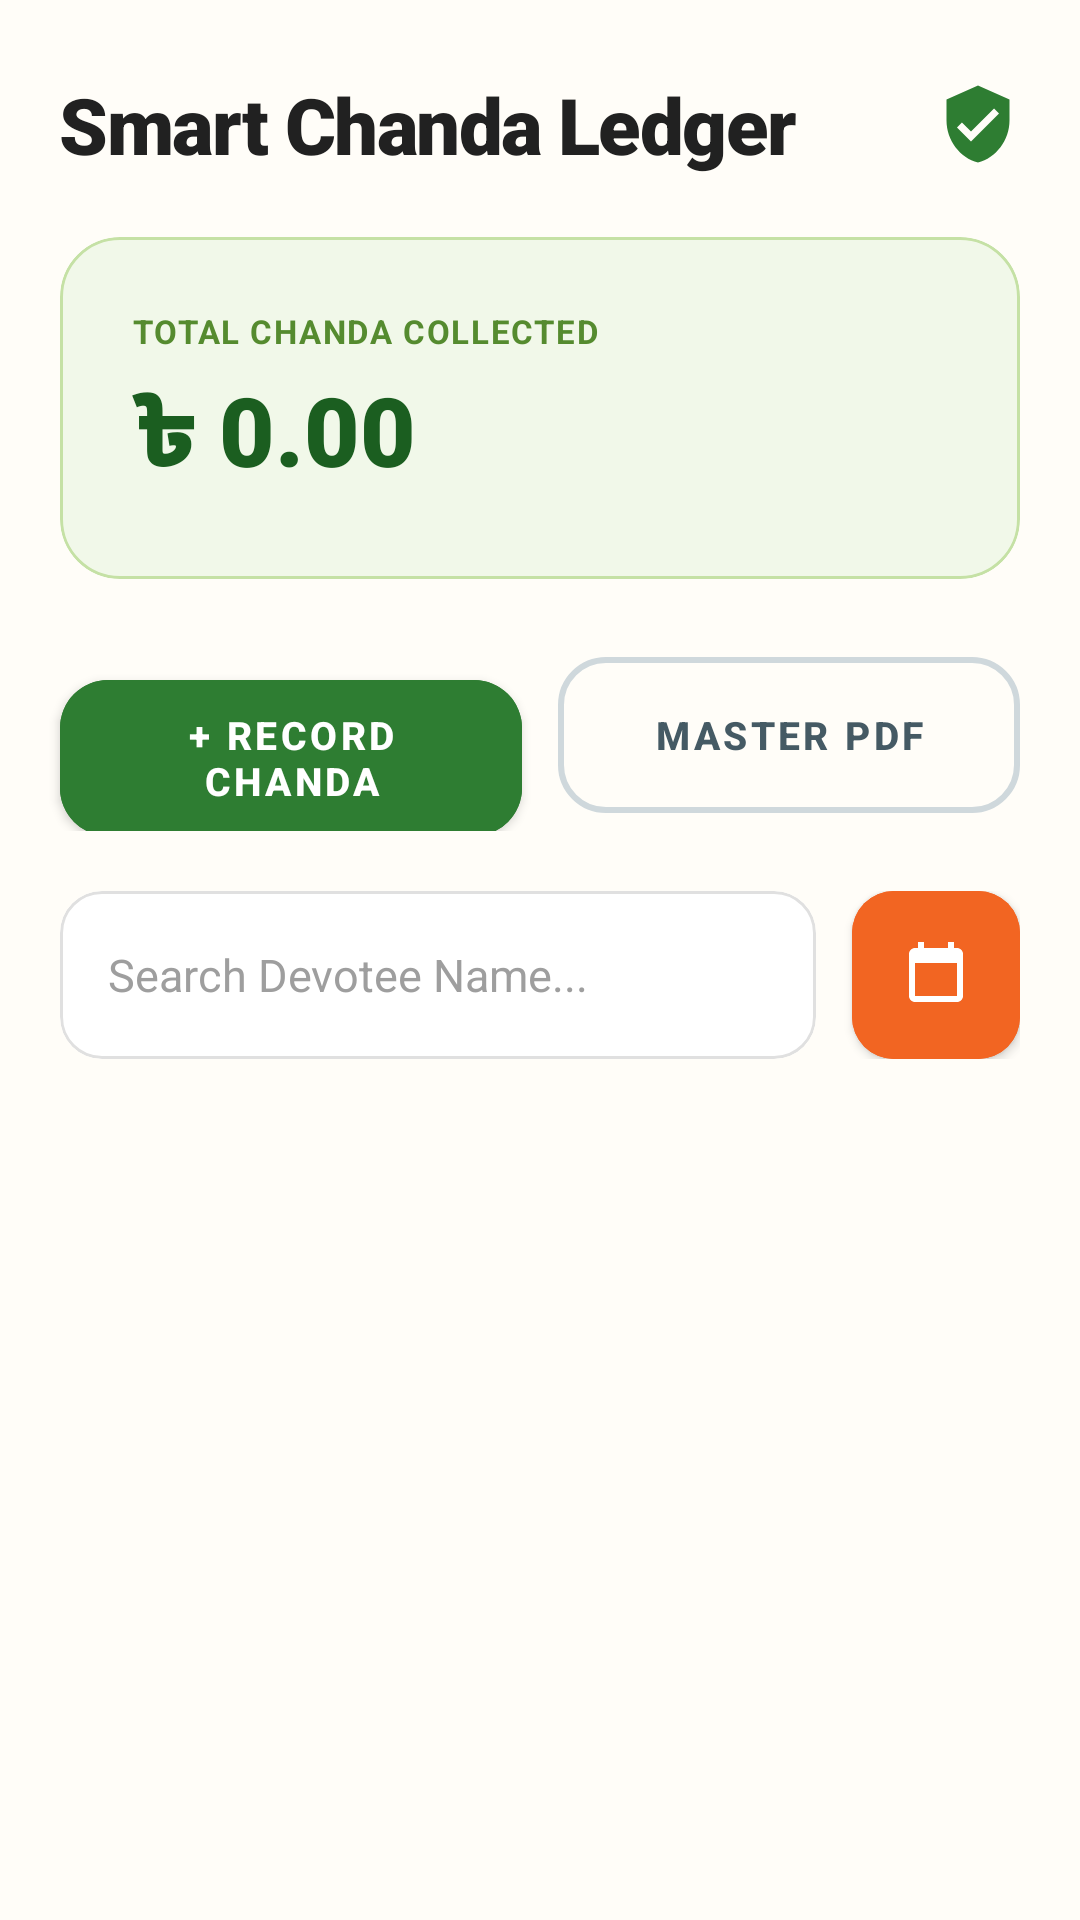

Locate icon controls on the screen. Image size 1080 × 1920, boxes as (x1, y1, x2, y2).
calendar: (852, 891, 1020, 1059)
secure shield: (946, 85, 1010, 163)
